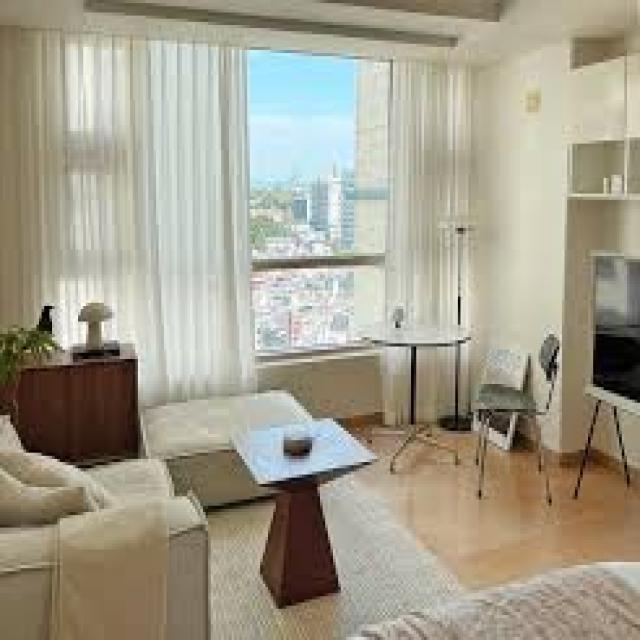Chair: (478, 333, 562, 512)
Sofa: (3, 404, 210, 639)
Table: (234, 418, 377, 608), (358, 308, 468, 478)
tv: (585, 248, 640, 403)
window: (10, 19, 448, 315)
